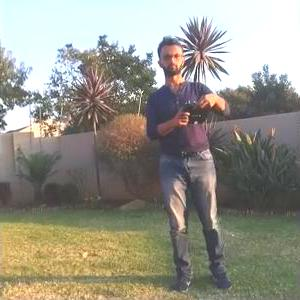follow: (143, 29, 236, 296)
